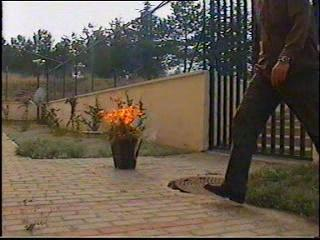fire: (107, 101, 141, 129)
